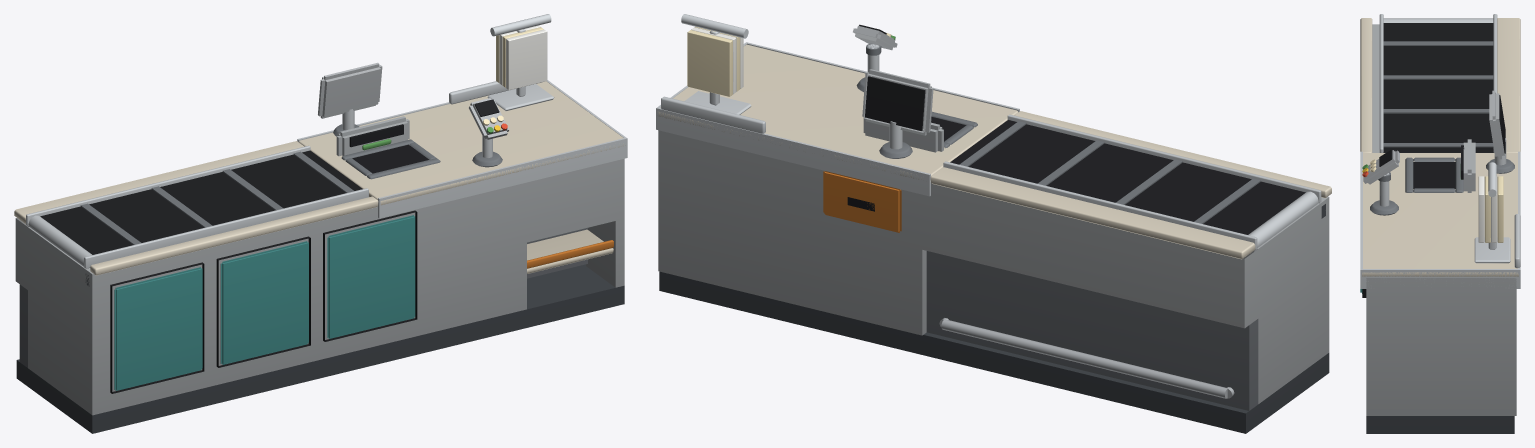
Rendered from Checkout_Lane_30.glb.
3 renders of one model, left to right at view 1: azimuth 30°, elevation 25°; view 2: azimuth 150°, elevation 25°; view 3: azimuth 270°, elevation 25°, orthographic. The views are drawn at different scales.
Visible parts, largest first — view 1: SM_Checkout_Lane_30; view 2: SM_Checkout_Lane_30; view 3: SM_Checkout_Lane_30.
Boxes of the visible parts, box(x1,y1,x2,y2) form: SM_Checkout_Lane_30: box(14, 14, 627, 433); SM_Checkout_Lane_30: box(656, 14, 1331, 433); SM_Checkout_Lane_30: box(1360, 14, 1520, 433).
Bounding box in the file's own units: 3 × 1.32 × 0.8.
1 material, 1 textured.
